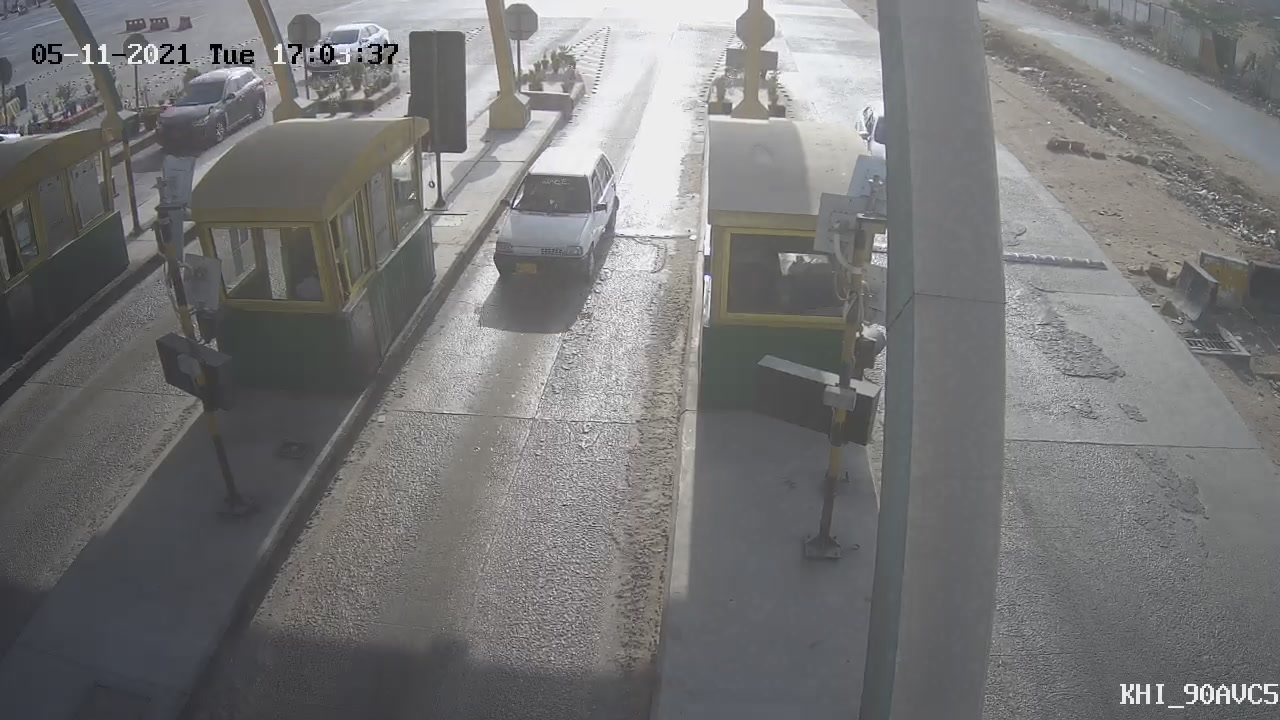F1: (469, 127, 640, 313)
